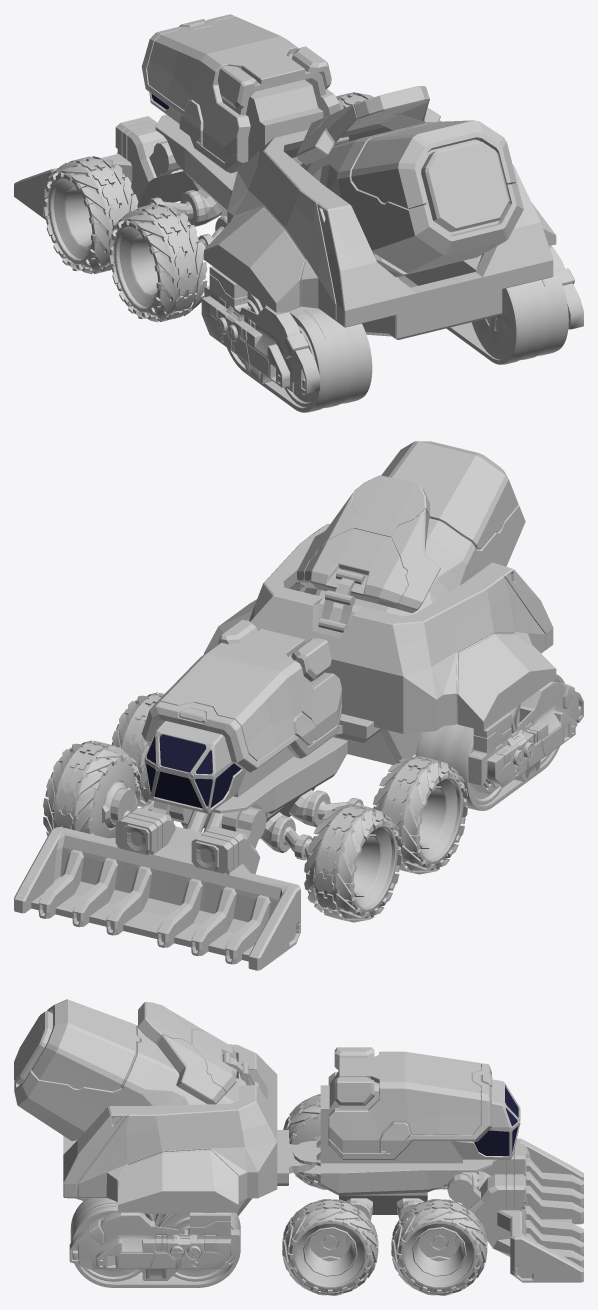
File: small_harvester.fbx
3 renders of one model, top to bottom at view 1: azimuth 30°, elevation 25°; view 2: azimuth 150°, elevation 25°; view 3: azimuth 270°, elevation 25°, orthographic. The views are drawn at different scales.
Parts seen in each view (by area): view 1: Cube.009, Cube.017, Cube.011, Cylinder.005, Cylinder.006, FR_handler.002, FR_track.002, Cube.012, FR_track.003, wheel_R1.004, FR_handler.003, wheel_R1.003; view 2: Cube.009, Cube.012, Cube.017, Cube.011, Cylinder.006, Cylinder.005, FR_handler.002, Cube.015, Cylinder.007, FR_track.002, Cylinder.004, Cube.018; view 3: Cube.009, Cube.017, Cube.011, Cube.012, FR_handler.003, Cylinder.007, Cylinder.004, Cube.015, FR_track.003, Cylinder.005, wheel_R1.002, wheel_R1.004.
Part boxes in pixels (x1,y1,x2,y2): Cube.009: (204, 86, 556, 339); Cube.017: (141, 14, 341, 230); Cube.011: (300, 120, 523, 277); Cylinder.005: (109, 204, 207, 322); Cylinder.006: (43, 156, 138, 274); FR_handler.002: (201, 266, 319, 394); FR_track.002: (227, 306, 372, 412); Cube.012: (14, 116, 198, 219); FR_track.003: (446, 267, 568, 364); wheel_R1.004: (472, 279, 546, 359); FR_handler.003: (549, 246, 583, 329); wheel_R1.003: (284, 310, 351, 407); Cube.009: (204, 475, 556, 764); Cube.012: (14, 801, 300, 970); Cube.017: (141, 619, 347, 852); Cube.011: (304, 441, 525, 616); Cylinder.006: (304, 804, 402, 922); Cylinder.005: (373, 756, 467, 874); FR_handler.002: (468, 680, 583, 794); Cube.015: (144, 720, 245, 813); Cylinder.007: (43, 740, 141, 838); FR_track.002: (415, 674, 564, 810); Cylinder.004: (111, 692, 164, 806); Cube.018: (110, 788, 154, 823); Cube.009: (63, 1002, 314, 1220); Cube.017: (293, 1047, 492, 1219); Cube.011: (14, 999, 238, 1140); Cube.012: (447, 1138, 583, 1282); FR_handler.003: (69, 1211, 239, 1280); Cylinder.007: (391, 1199, 487, 1295); Cylinder.004: (282, 1199, 378, 1295); Cube.015: (451, 1079, 520, 1159); FR_track.003: (70, 1198, 240, 1287); Cylinder.005: (283, 1094, 326, 1189); wheel_R1.002: (154, 1214, 225, 1281); wheel_R1.004: (79, 1199, 154, 1281).
Size of the model in its own units: 683 by 580 by 1312.
